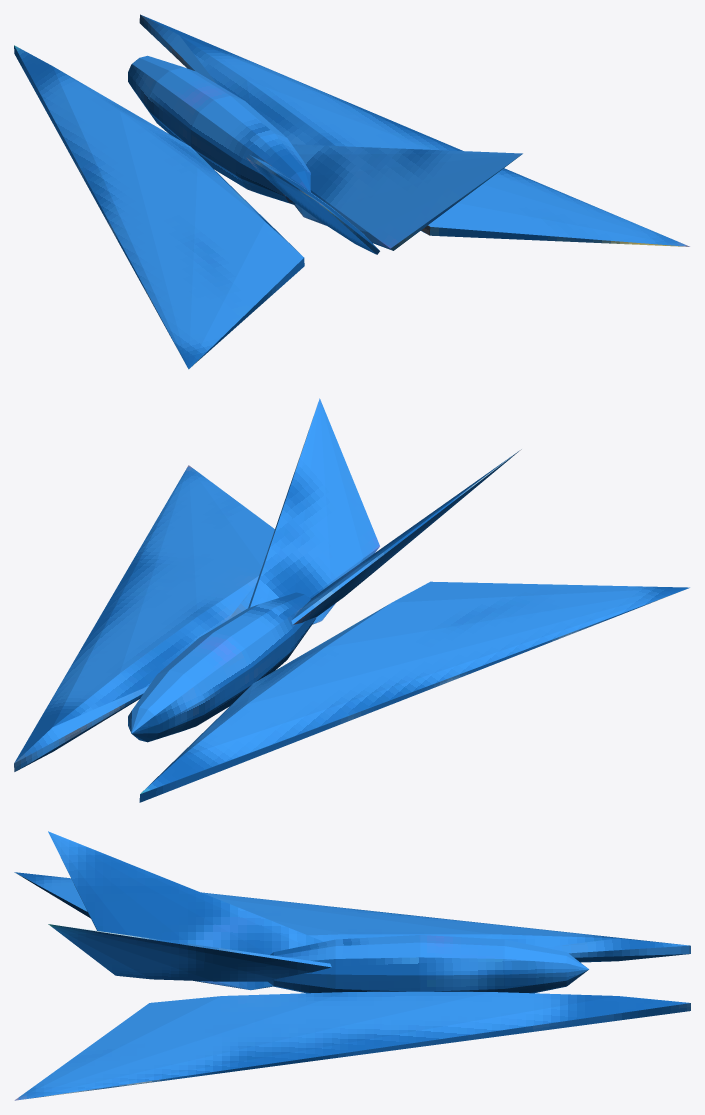
File: player_fighter.gltf
3 views of the same model, one above another, from view 1: azimuth 30°, elevation 25°; view 2: azimuth 150°, elevation 25°; view 3: azimuth 270°, elevation 25° (orthographic). The views are drawn at different scales.
Parts seen in each view (by area): view 1: Left Wing, Right Wing, Right Tail, Body, Left Tail; view 2: Left Wing, Right Wing, Right Tail, Body, Left Tail; view 3: Right Wing, Body, Left Tail, Left Wing, Right Tail.
Boxes of the visible parts, <box> form: Left Wing: <box>14,45,304,369</box>; Right Wing: <box>139,14,689,246</box>; Right Tail: <box>292,144,522,250</box>; Body: <box>128,55,310,204</box>; Left Tail: <box>246,154,379,254</box>; Left Wing: <box>139,581,689,802</box>; Right Wing: <box>14,465,274,771</box>; Right Tail: <box>248,398,379,624</box>; Body: <box>128,592,316,742</box>; Left Tail: <box>291,449,521,624</box>; Right Wing: <box>14,991,690,1100</box>; Body: <box>268,935,588,993</box>; Left Tail: <box>48,831,323,990</box>; Left Wing: <box>14,872,690,962</box>; Right Tail: <box>48,924,331,981</box>.
Bounding box in the file's own units: 0.9992 × 0.2495 × 1.25.
5 materials, 5 textured.
